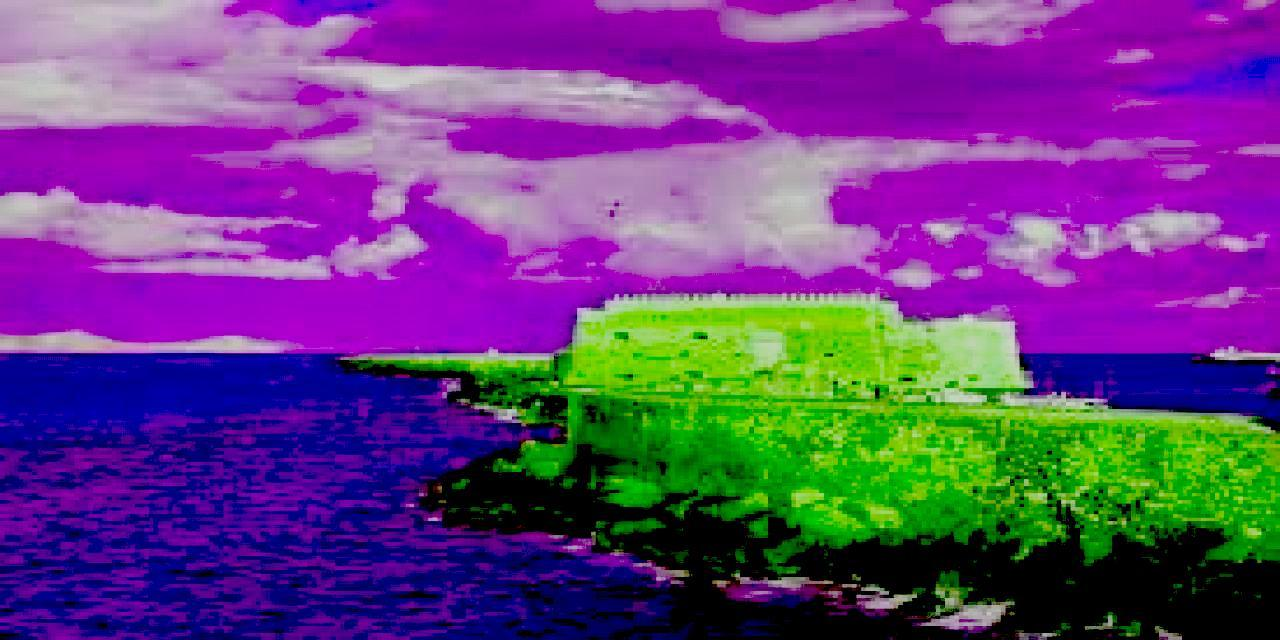Kules: (564, 294, 1033, 401)
